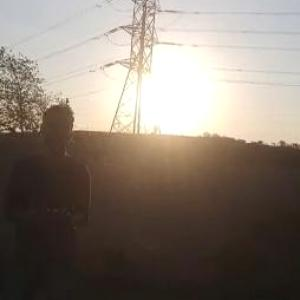follow: (0, 100, 96, 299)
